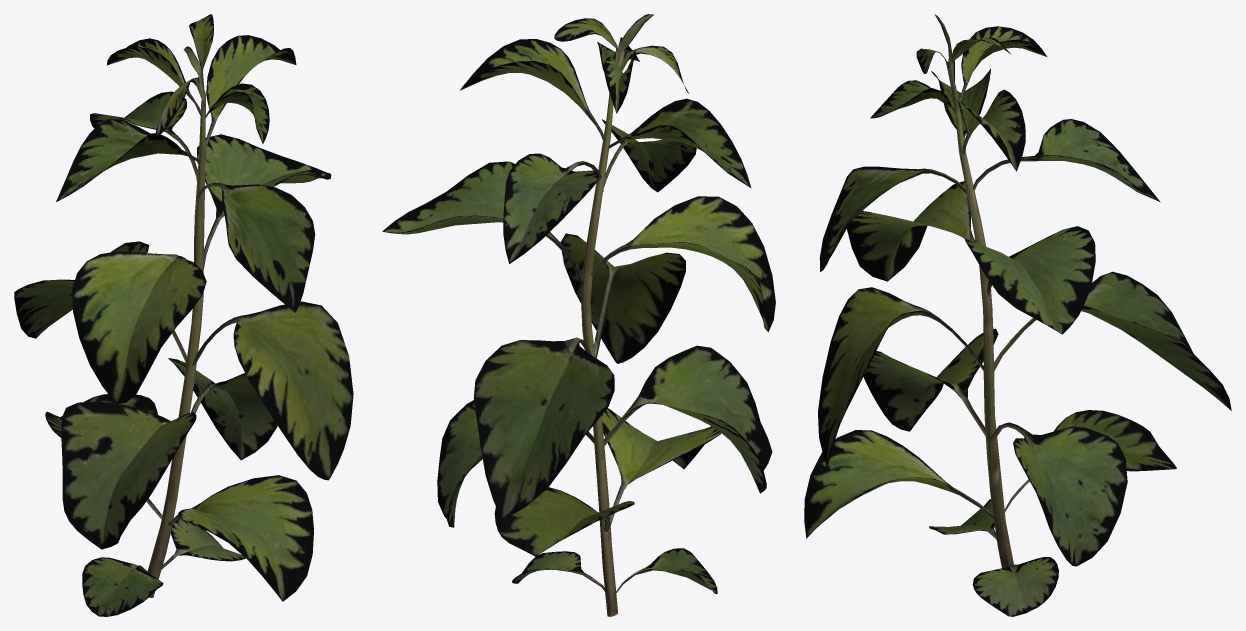
File: nettle_a.glb
3 views of the same model, side by side, from view 1: azimuth 30°, elevation 25°; view 2: azimuth 150°, elevation 25°; view 3: azimuth 270°, elevation 25° (orthographic).
Visible parts, largest first — view 1: nettle_plant_medium_a_LOD0; view 2: nettle_plant_medium_a_LOD0; view 3: nettle_plant_medium_a_LOD0.
Boxes of the visible parts, x1,y1,x2,y2 form: nettle_plant_medium_a_LOD0: [14, 14, 353, 616]; nettle_plant_medium_a_LOD0: [382, 14, 775, 616]; nettle_plant_medium_a_LOD0: [804, 14, 1231, 616].
Size of the model in its own units: 0.0773 by 0.1314 by 0.0891.
1 material, 1 textured.
